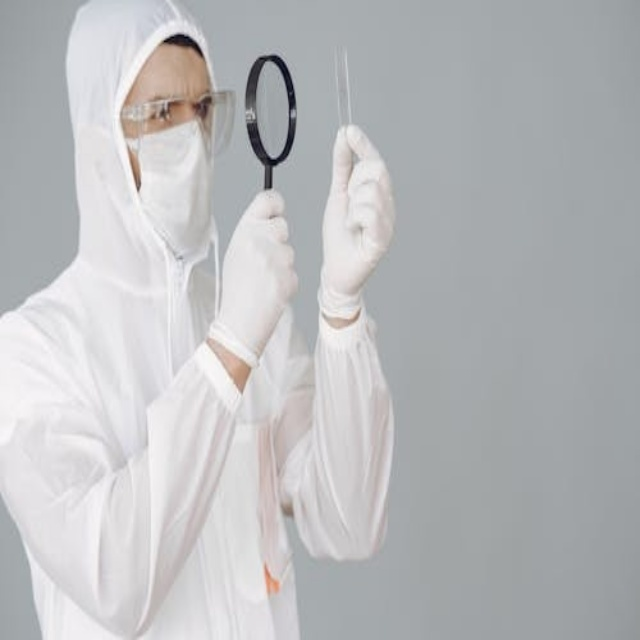Gafas: (119, 92, 236, 158)
Guantes: (209, 186, 299, 371), (317, 120, 396, 319)
Mascara: (127, 108, 219, 257)
